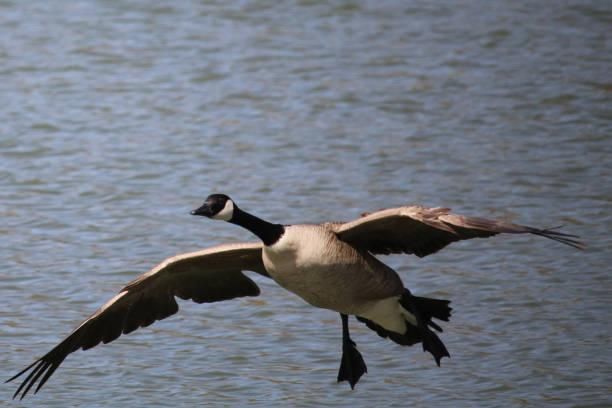Canadian-Goose: (7, 184, 591, 391)
